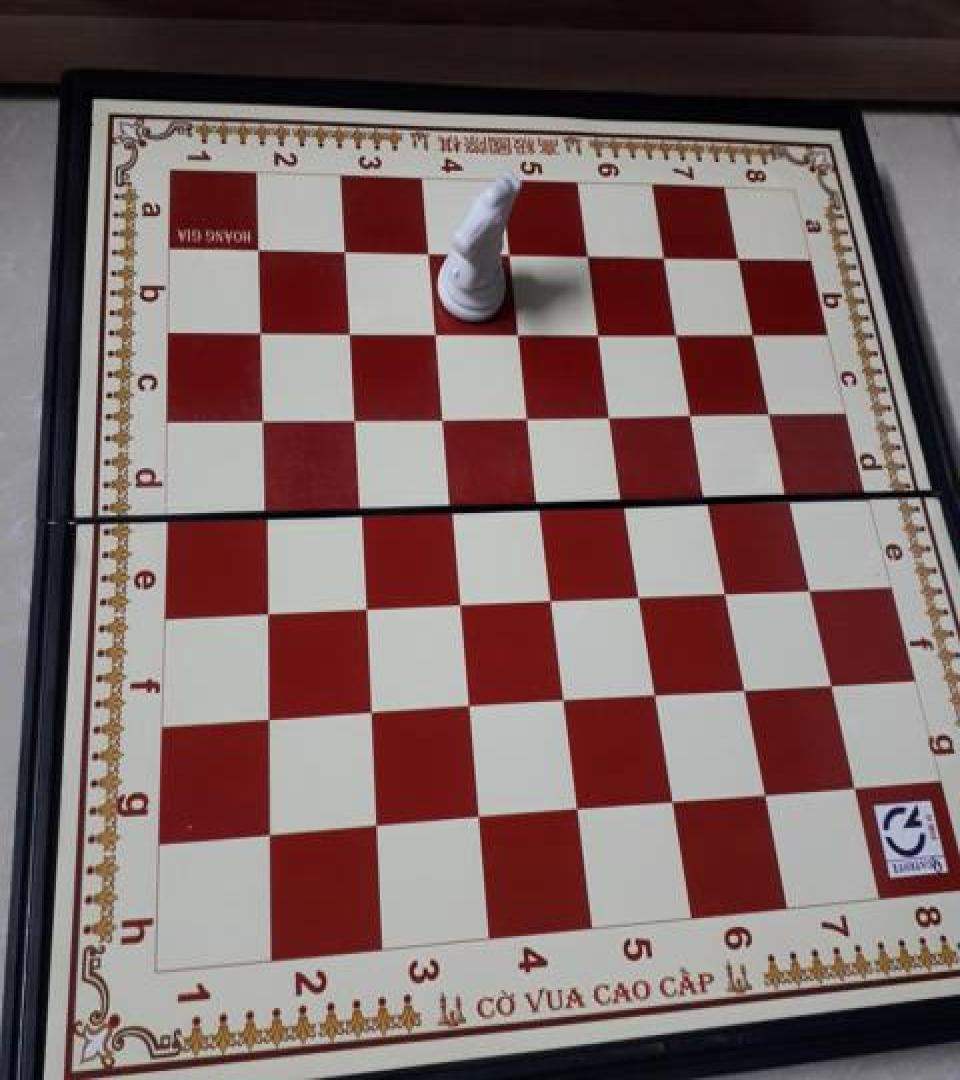xcorner: (688, 481, 722, 520), (720, 240, 754, 278), (646, 238, 680, 276), (570, 236, 604, 274), (491, 234, 525, 272), (410, 232, 444, 270), (327, 228, 361, 266), (241, 226, 275, 264), (735, 315, 769, 353), (659, 315, 693, 353), (581, 314, 615, 352), (500, 313, 534, 351), (417, 312, 451, 350), (331, 310, 365, 348), (242, 308, 276, 346), (751, 395, 785, 433), (673, 396, 707, 434), (593, 396, 627, 434), (510, 396, 544, 434), (424, 396, 458, 434), (336, 396, 370, 434), (244, 397, 278, 435), (768, 480, 802, 518), (606, 484, 640, 522), (520, 485, 554, 523), (432, 487, 466, 525), (340, 490, 374, 528), (246, 490, 280, 528), (786, 570, 820, 608), (704, 574, 738, 612), (619, 577, 653, 615), (531, 580, 565, 618), (440, 584, 474, 622), (345, 588, 379, 626), (247, 592, 281, 630), (806, 666, 840, 704), (721, 672, 755, 710), (634, 676, 668, 714), (543, 682, 577, 720), (449, 688, 483, 726), (351, 693, 385, 731), (249, 700, 283, 738), (827, 770, 861, 808), (740, 776, 774, 814), (649, 783, 683, 821), (555, 791, 589, 829), (458, 799, 492, 837), (357, 807, 391, 845), (252, 816, 286, 854)
